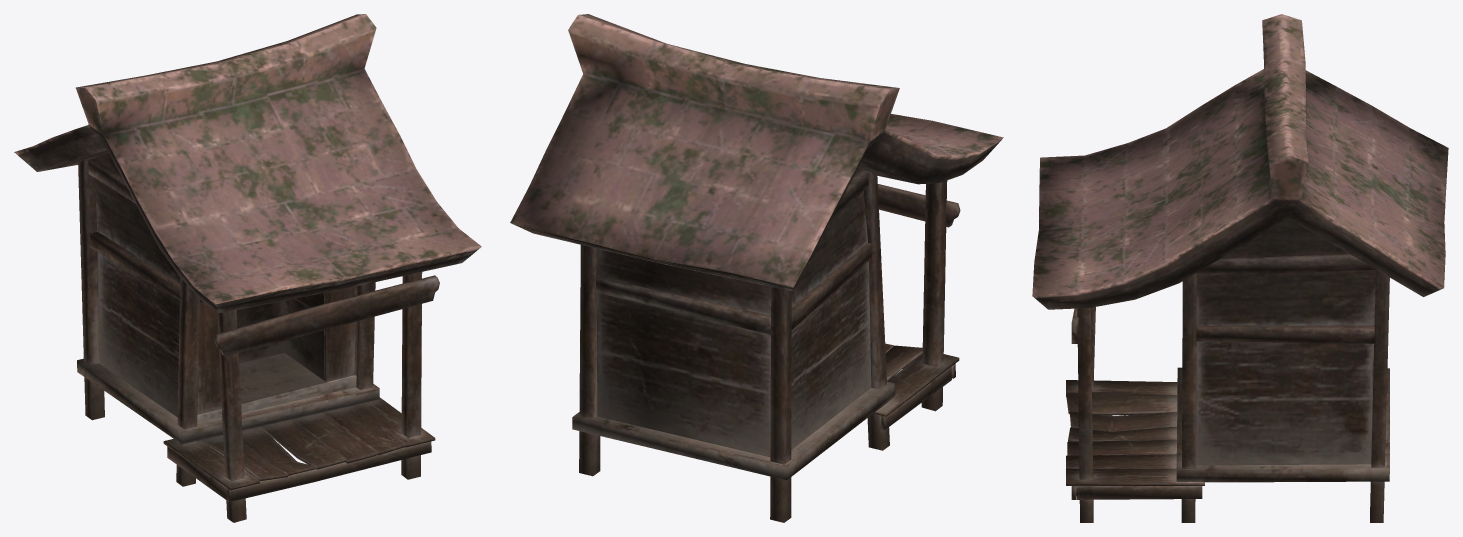
The model's file is HomeSmall1.fbx.
3 views of the same model, side by side, from view 1: azimuth 30°, elevation 25°; view 2: azimuth 150°, elevation 25°; view 3: azimuth 270°, elevation 25° (orthographic). The views are drawn at different scales.
Visible parts, largest first — view 1: SM_cmn_mount_Shrine_01a; view 2: SM_cmn_mount_Shrine_01a; view 3: SM_cmn_mount_Shrine_01a.
Boxes of the visible parts, bbox=[...] form: SM_cmn_mount_Shrine_01a: bbox=[14, 14, 481, 522]; SM_cmn_mount_Shrine_01a: bbox=[510, 14, 1003, 522]; SM_cmn_mount_Shrine_01a: bbox=[1032, 14, 1448, 522].
Bounding box in the file's own units: 99.73 × 126 × 122.
